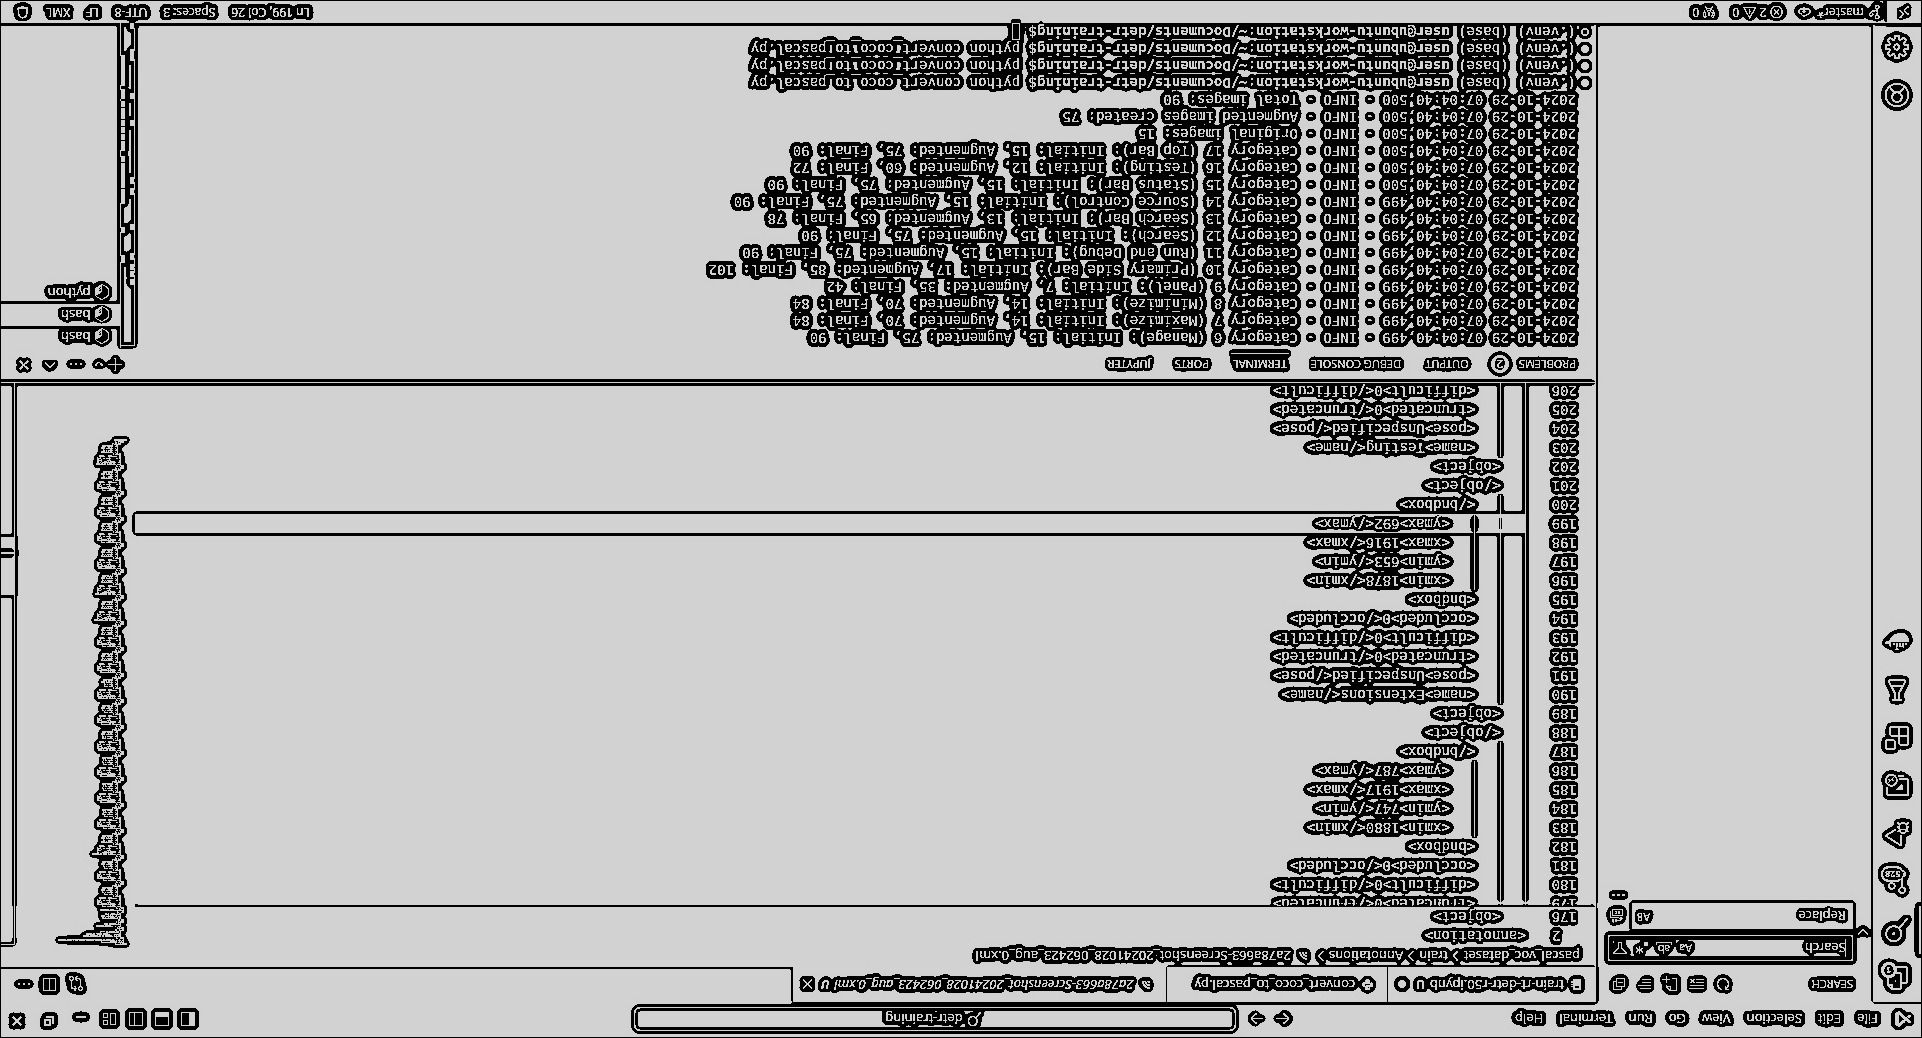Accounts: (1882, 75, 1918, 112)
Activity Bar: (1873, 26, 1921, 998)
Close: (12, 1011, 27, 1035)
Editor: (3, 383, 1588, 998)
Explorer: (1879, 956, 1916, 998)
Extensions: (1880, 724, 1916, 761)
Manage: (1884, 29, 1916, 63)
Maximize: (40, 1009, 61, 1037)
Minimize: (69, 1009, 91, 1034)
Panel: (3, 26, 1590, 381)
Primary Side Bar: (1592, 26, 1873, 1001)
Run and Debug: (1884, 816, 1916, 851)
Search: (1879, 914, 1913, 949)
Search Bar: (629, 1003, 1242, 1037)
Source Control: (1879, 862, 1913, 899)
Status Bar: (3, 3, 1922, 24)
Testing: (1879, 672, 1918, 709)
Top Bar: (3, 1001, 1921, 1035)
